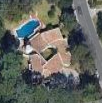pool: (16, 25, 37, 37)
